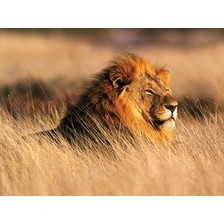lion: (26, 51, 179, 152)
